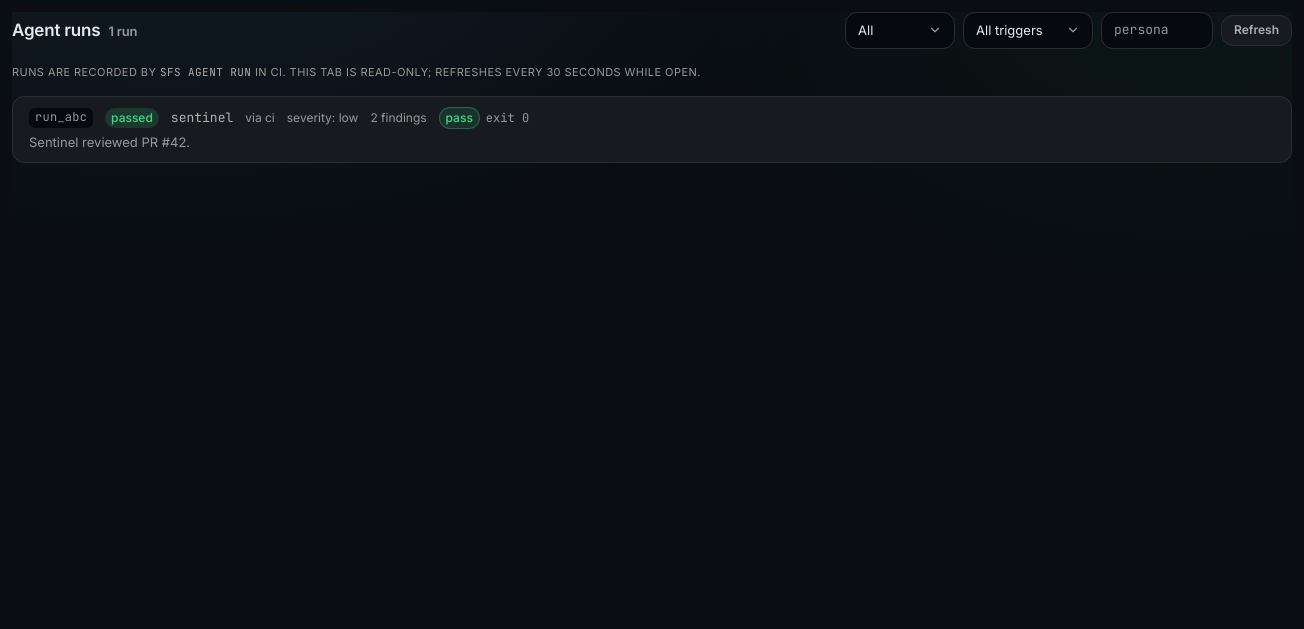
Test: AgentRunsTab › refuses to render javascript: ci_run_url as a clickable link
Click the text "run_abc": x=61, y=118 [29,108,93,128]
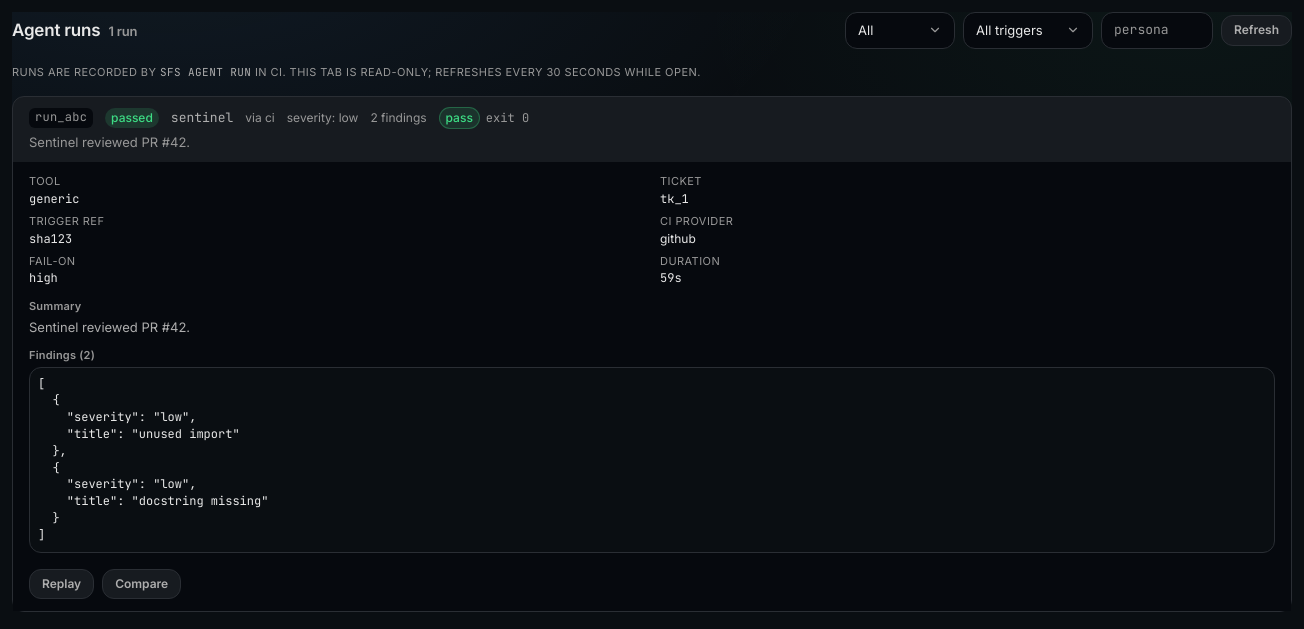
Result: the text "github" is shown at [660,231,696,246]
